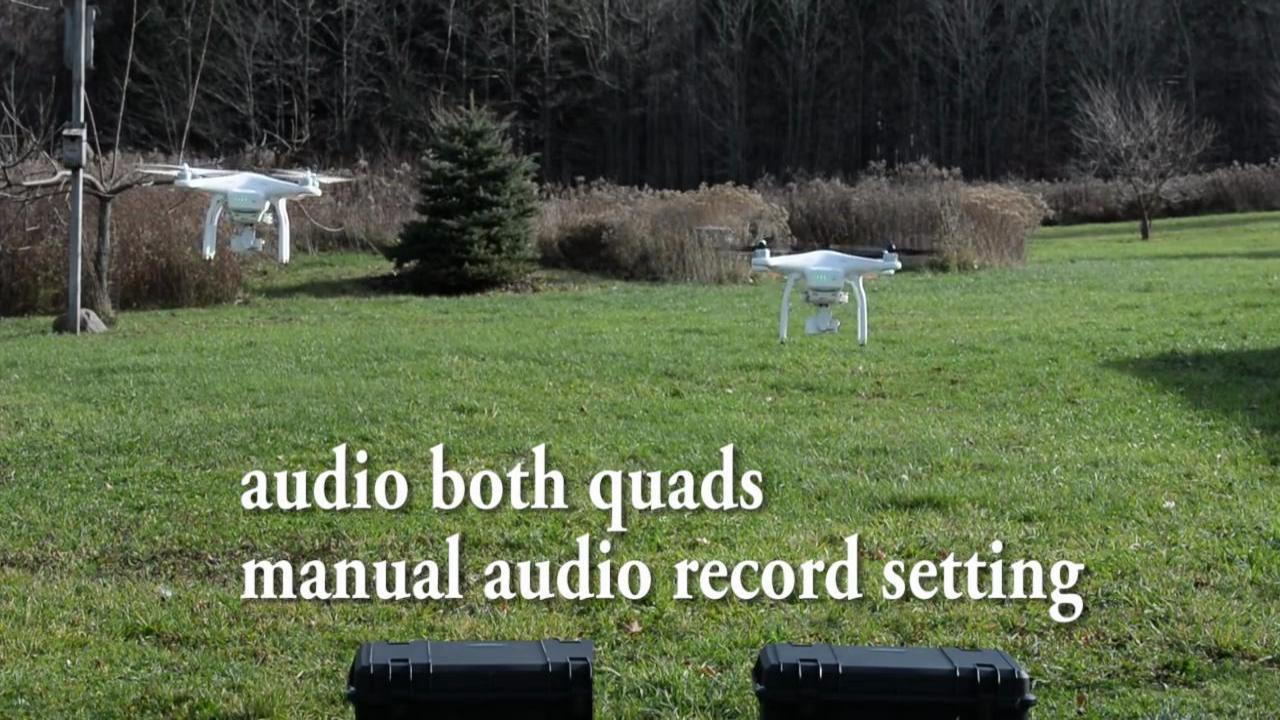Drone: (704, 220, 948, 360), (122, 151, 362, 273)
